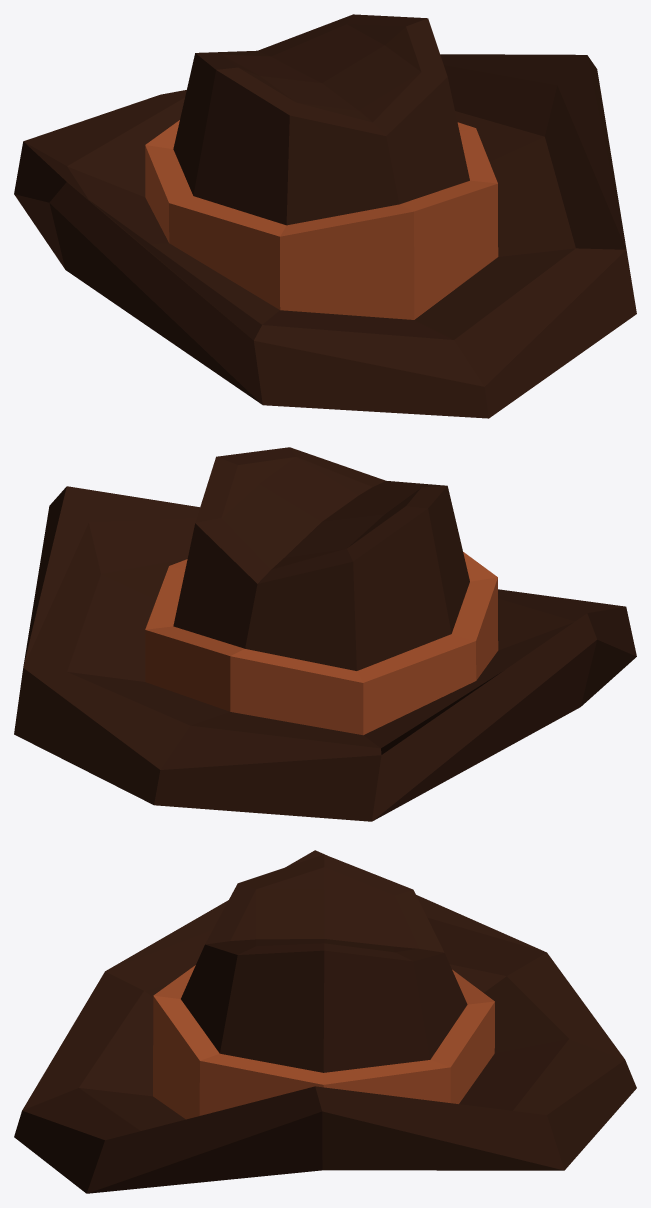
File: Hat_Cowboy.FBX
3 views of the same model, one above another, from view 1: azimuth 30°, elevation 25°; view 2: azimuth 150°, elevation 25°; view 3: azimuth 270°, elevation 25° (orthographic). The views are drawn at different scales.
Parts seen in each view (by area): view 1: Body; view 2: Body; view 3: Body.
Part boxes in pixels (<box>): Body: <box>14,14,636,418</box>; Body: <box>14,447,636,821</box>; Body: <box>14,850,636,1193</box>.
Bounding box in the file's own units: 52.64 × 23.17 × 55.75.
